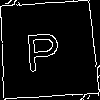P: (22, 24, 62, 72)
